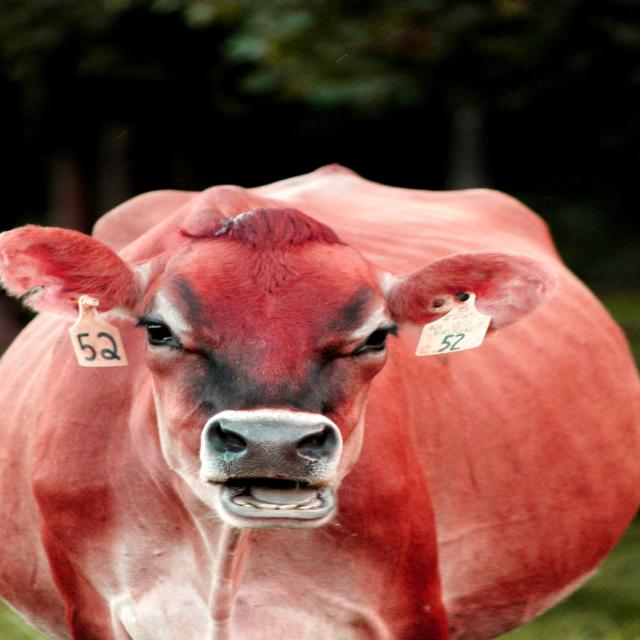cow: (2, 165, 638, 640)
